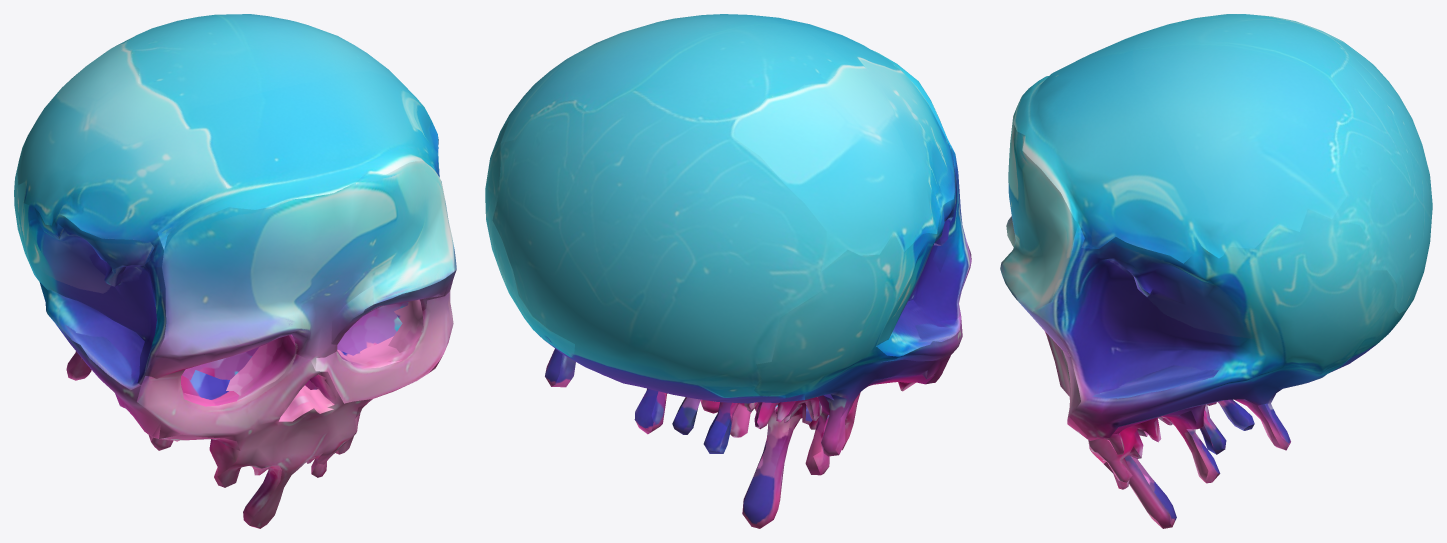
The model's file is skull.glb.
3 views of the same model, side by side, from view 1: azimuth 30°, elevation 25°; view 2: azimuth 150°, elevation 25°; view 3: azimuth 270°, elevation 25° (orthographic). The views are drawn at different scales.
Visible parts, largest first — view 1: tmpkynnbcl2.ply; view 2: tmpkynnbcl2.ply; view 3: tmpkynnbcl2.ply.
Part boxes in pixels (x1,y1,x2,y2): tmpkynnbcl2.ply: (14, 14, 456, 528); tmpkynnbcl2.ply: (485, 14, 971, 528); tmpkynnbcl2.ply: (1000, 14, 1432, 528).
Size of the model in its own units: 1.96 by 2.29 by 1.84.
Materials: 1 (1 with a texture image).
